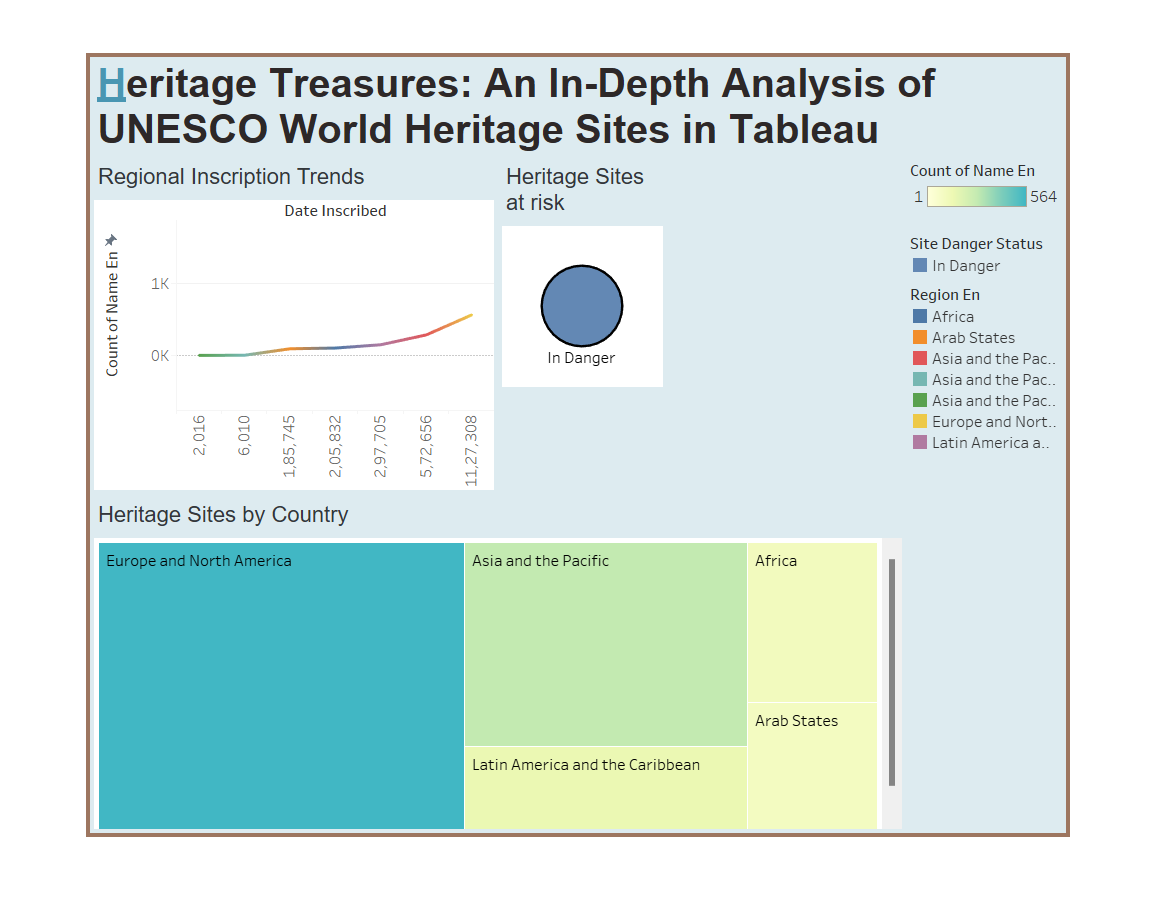

The dashboard page shown, as its layout file describes it:
{"tool":"tableau","page":{"name":"Dashboard 1","canvas":[1000,800],"ordinal":0},"visuals":[{"type":"title","box":[12,12,976,99]},{"type":"worksheet","title":"Sheet 3","mark":"Line","rows":["name_en"],"cols":["date_inscribed"],"box":[12,111,408,338.5]},{"type":"worksheet","title":"Sheet 2","mark":"Pie","box":[420,111,408,338.5]},{"type":"legend","title":"Sheet 1","param":"[federated.14q5akm1y8it8j1c1l0bq13slaq4].[cnt:name_en:qk]","box":[828,111,160,73]},{"type":"legend","title":"Sheet 2","param":"[federated.14q5akm1y8it8j1c1l0bq13slaq4].[none:Calculation_2183401418315501568:n","box":[828,184,160,51]},{"type":"legend","title":"Sheet 3","param":"[federated.14q5akm1y8it8j1c1l0bq13slaq4].[none:region_en:nk]","box":[828,235,160,177]},{"type":"worksheet","title":"Sheet 1","mark":"Automatic","box":[12,449.5,816,338.5]}]}

Visuals, with their boxes in screenshot pixels (x1, y1, x2, y2), scaled from the page's 1000x800 canvas onto the 1161x912 screenshot:
title: <box>14,14,1147,127</box>
"Sheet 3" worksheet (Line marks): <box>14,127,488,512</box>
"Sheet 2" worksheet (Pie marks): <box>488,127,961,512</box>
"Sheet 1" legend: <box>961,127,1147,210</box>
"Sheet 2" legend: <box>961,210,1147,268</box>
"Sheet 3" legend: <box>961,268,1147,470</box>
"Sheet 1" worksheet: <box>14,512,961,898</box>
